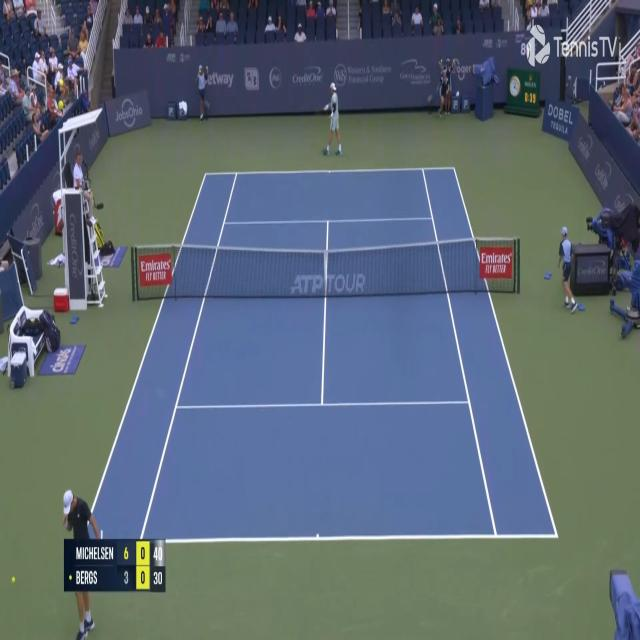tennis-player: (59, 487, 102, 640), (322, 80, 343, 157)
